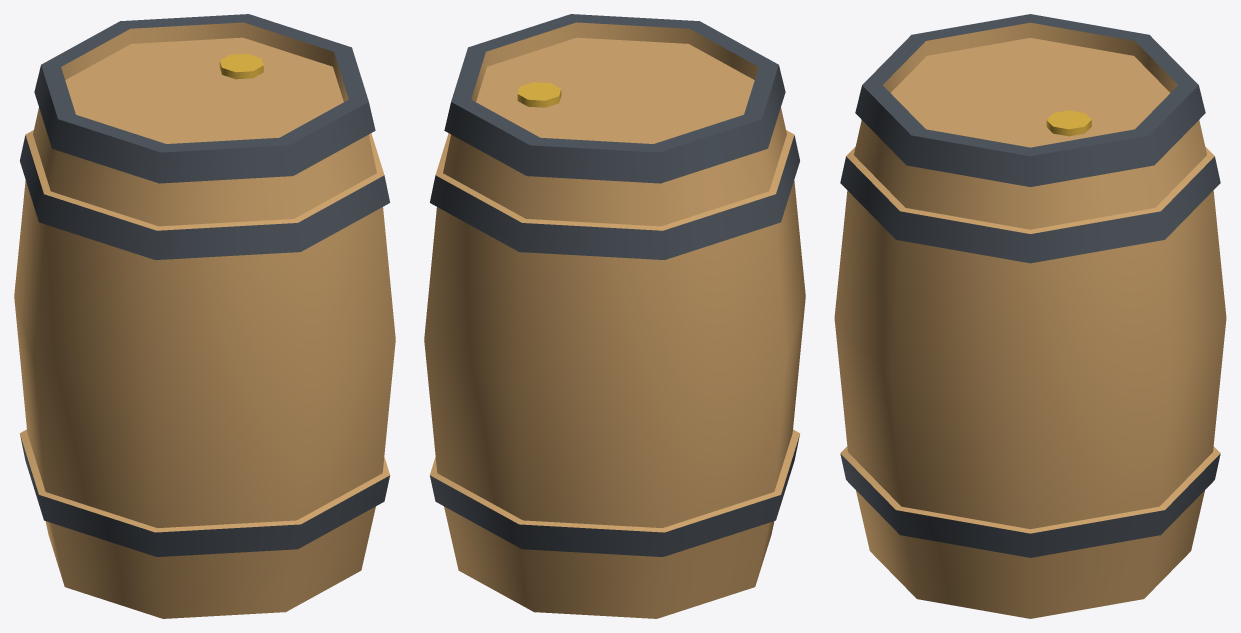
Rendered from barrel.lod1.glb.
3 views of the same model, side by side, from view 1: azimuth 30°, elevation 25°; view 2: azimuth 150°, elevation 25°; view 3: azimuth 270°, elevation 25° (orthographic).
Parts seen in each view (by area): view 1: barrel_lod1; view 2: barrel_lod1; view 3: barrel_lod1.
Boxes of the visible parts, bbox=[...] form: barrel_lod1: bbox=[14, 14, 395, 618]; barrel_lod1: bbox=[424, 14, 805, 618]; barrel_lod1: bbox=[834, 14, 1226, 618].
Size of the model in its own units: 0.61 by 0.8 by 0.61.
